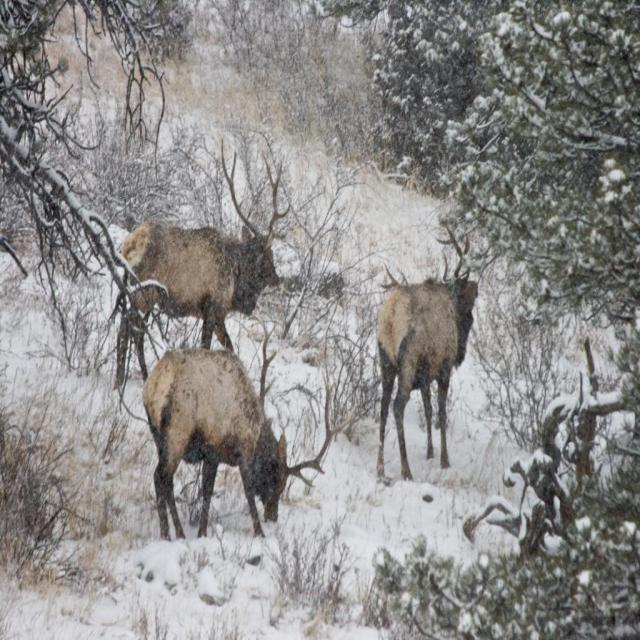Deer: (142, 320, 360, 542), (113, 139, 291, 392), (376, 217, 482, 484)
